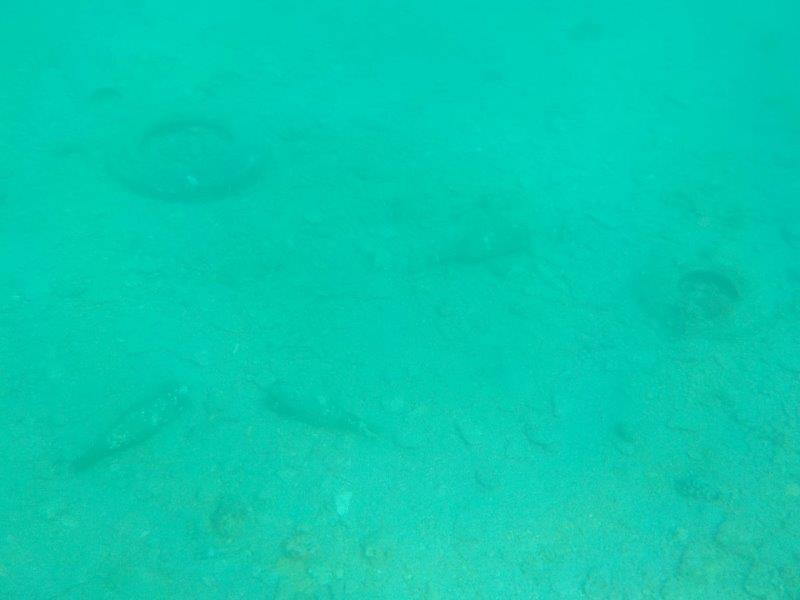bottle: (56, 374, 202, 486), (260, 376, 395, 453), (416, 219, 541, 277)
tire: (97, 101, 269, 205), (631, 232, 787, 342)
